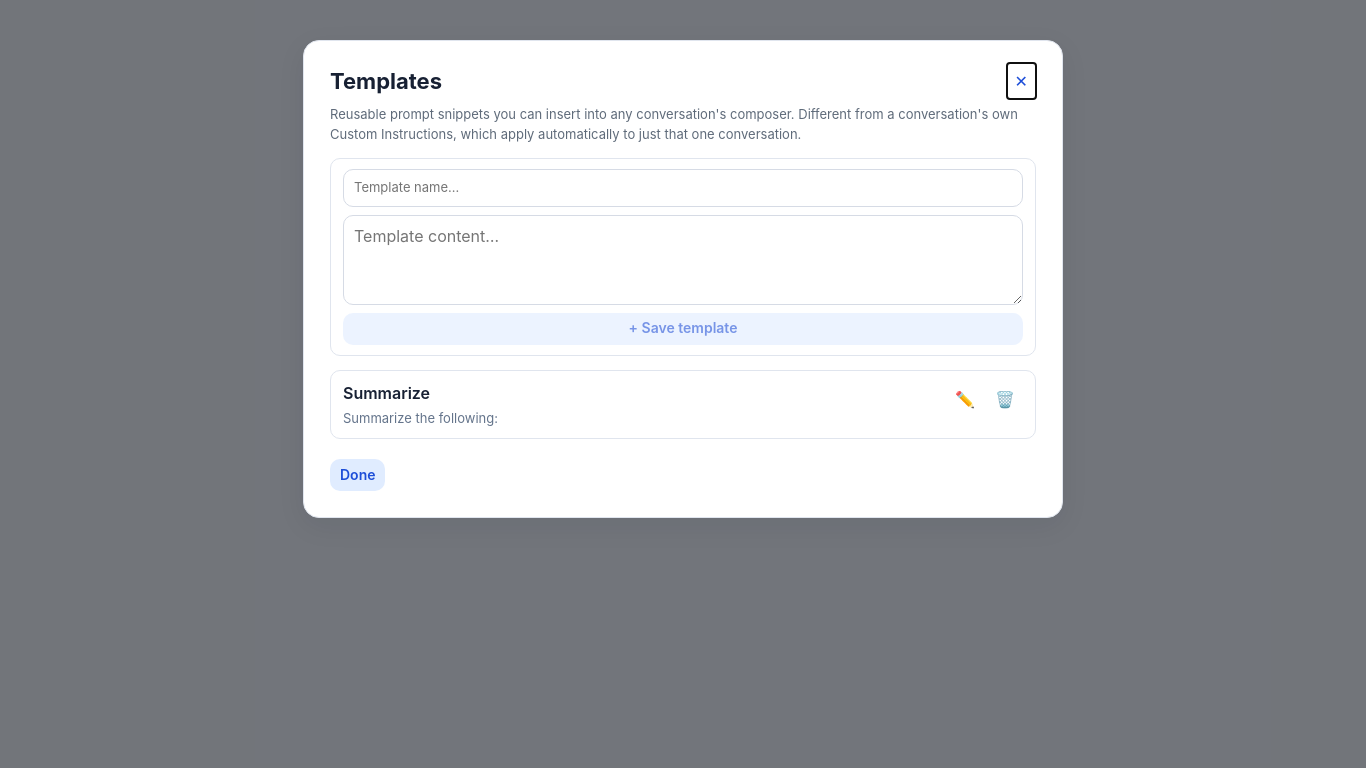
Templates › shows an error when creating a template fails
This screenshot has width=1366, height=768.
Check: the text "Summarize" is shown, box [343, 382, 430, 402]
Type "Translate" into the field named "New template name". click: (683, 188)
box: [343, 169, 1023, 206]
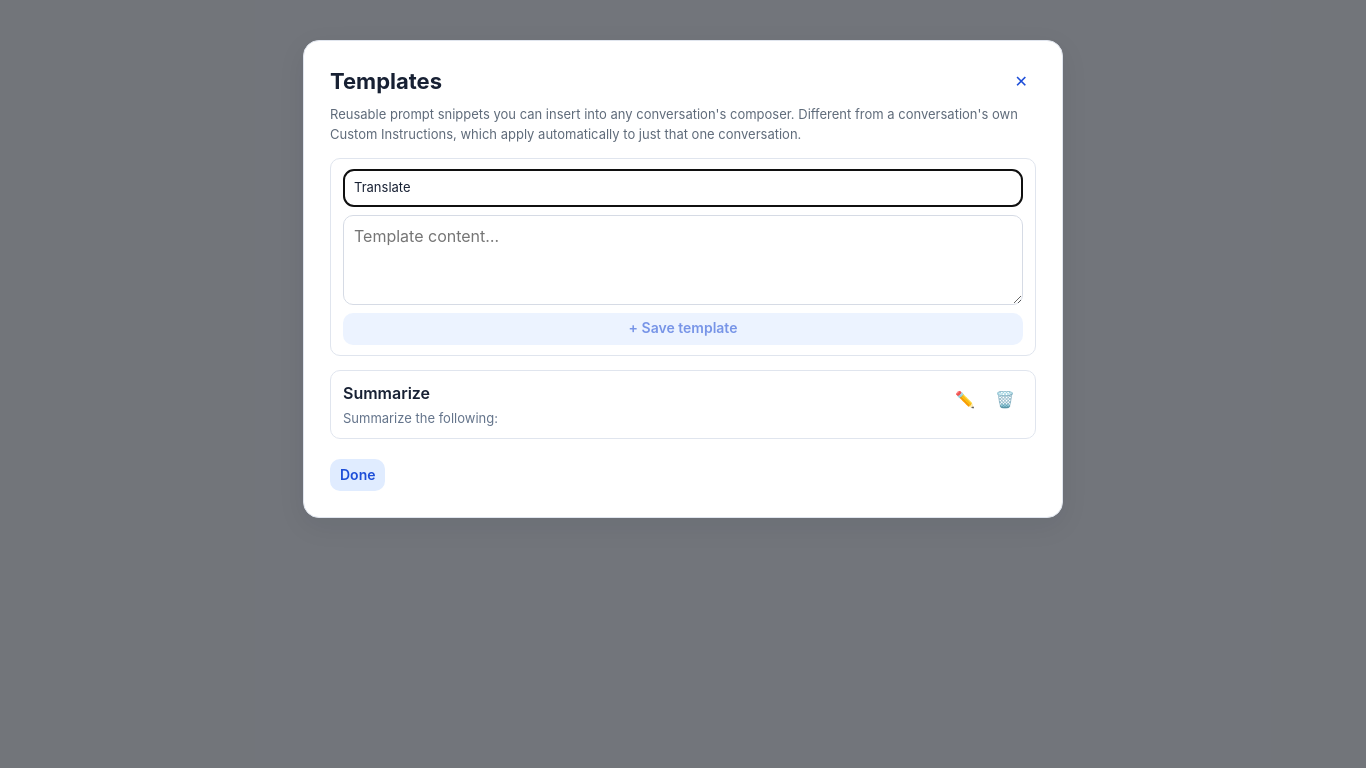
Type "content" into the text box named "New template content". click: (683, 260)
box: [343, 214, 1023, 304]
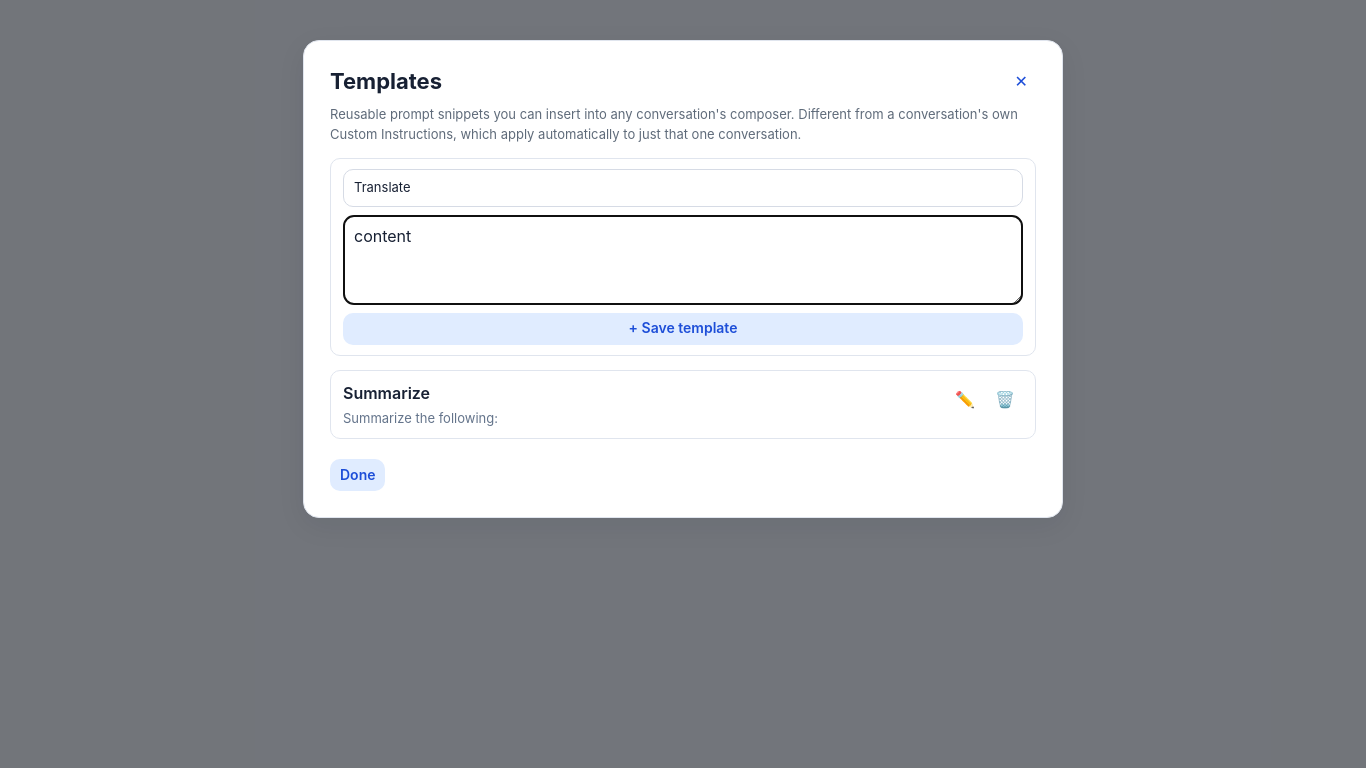
Click the button "+ Save template". click: click(683, 328)
box: [343, 312, 1023, 344]
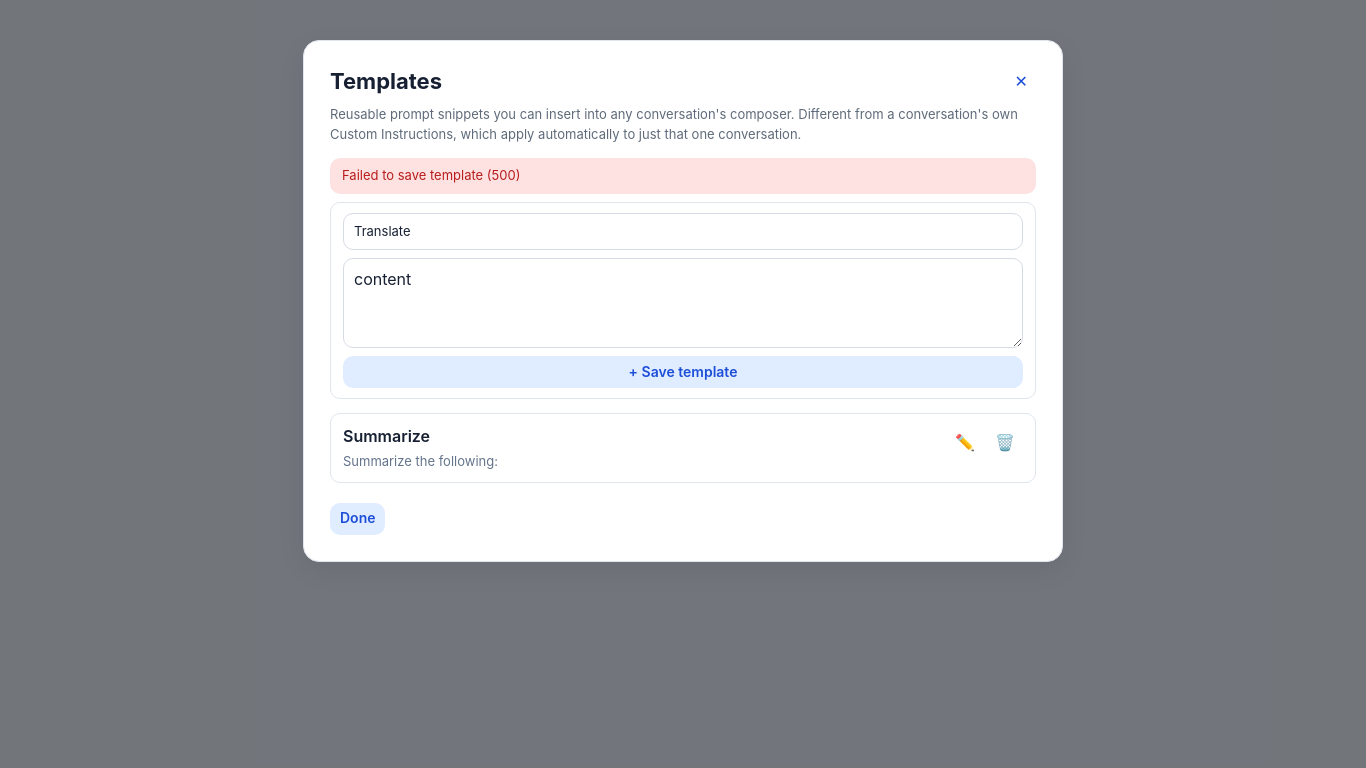
Check: the message shows "Failed to save template", box [342, 167, 520, 183]
